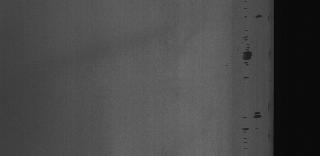oil spot: (238, 0, 254, 82), (240, 112, 266, 152), (254, 10, 264, 20)
